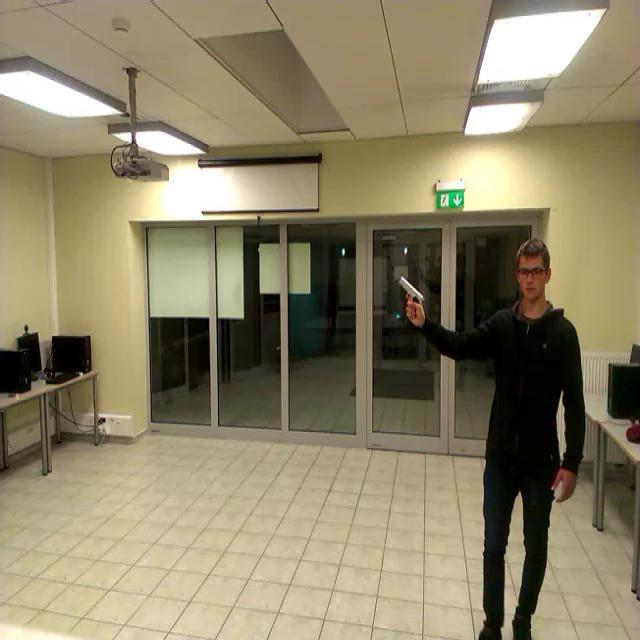weapon: (398, 276, 424, 321)
